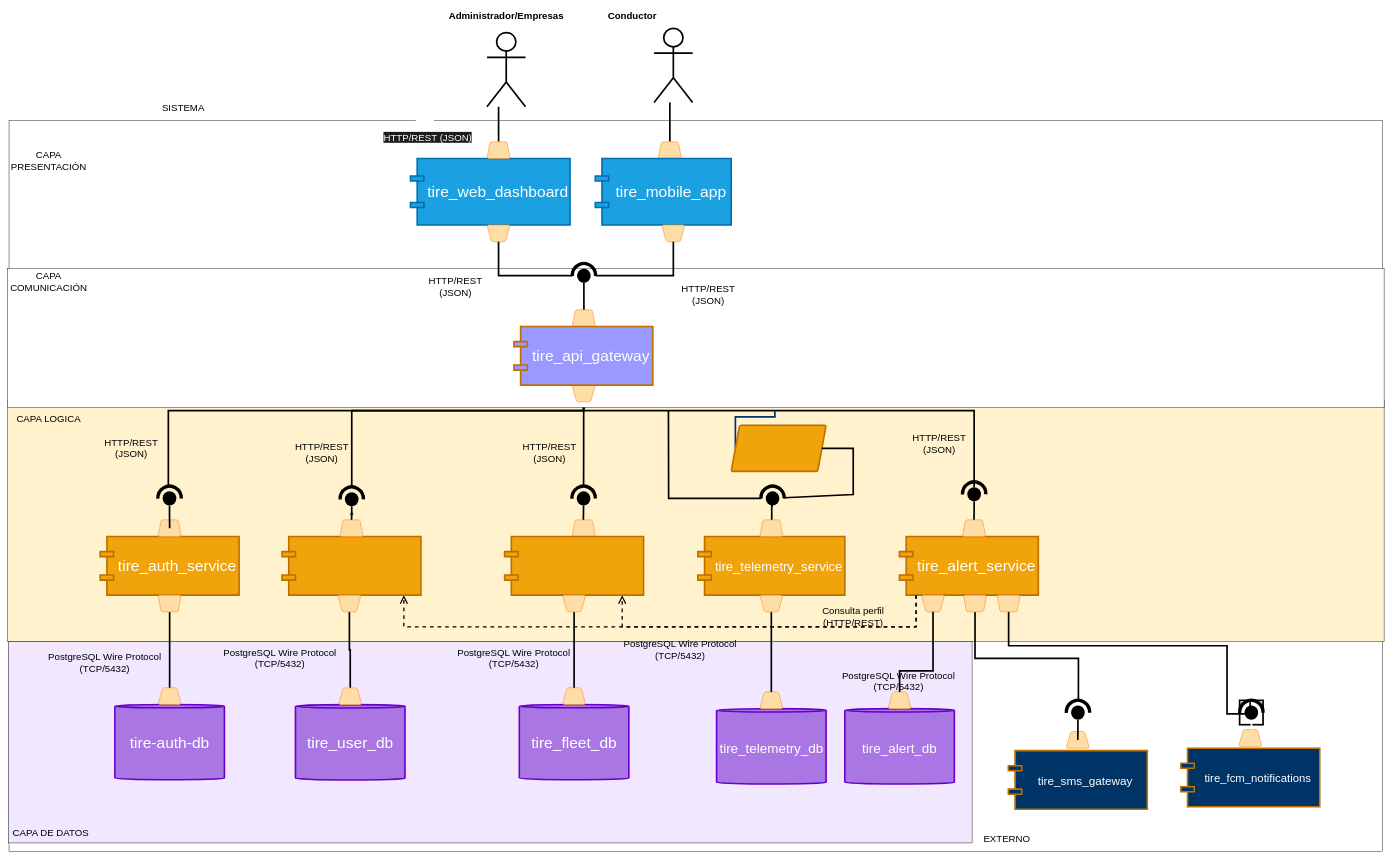
Some shapes in this 1391 by 859 pixel diagram are drawn without their labels. Here are the shapes that lost their labels. From the top down, the centre of each, then its label:
At [778,448]: "tire_broker".
At [351,566]: "tire_user_service".
At [574,566]: "tire_fleet_service".
